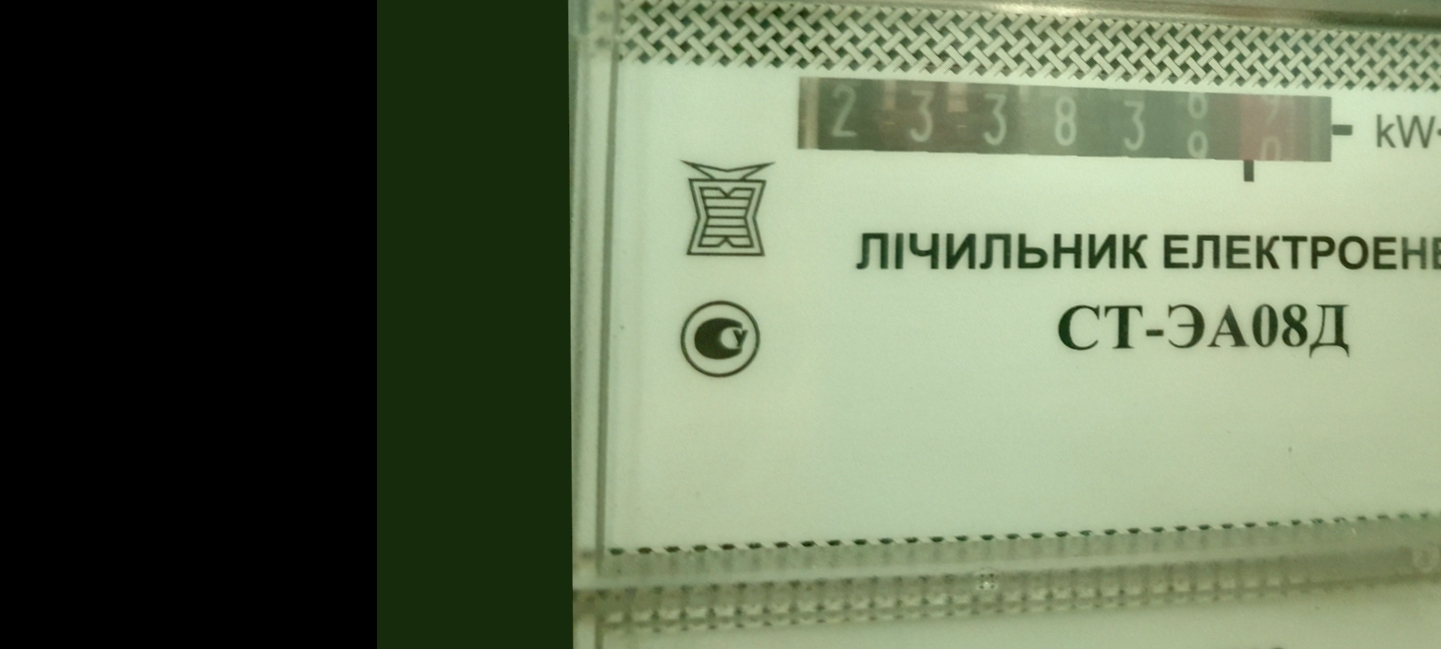0: (1258, 133, 1284, 167)
2: (825, 80, 864, 141)
3: (976, 86, 1012, 150), (907, 85, 935, 144), (1121, 94, 1149, 151)
8: (1048, 90, 1082, 149), (1186, 88, 1212, 120)
9: (1255, 89, 1286, 128), (1184, 126, 1213, 162)
screen: (768, 50, 1362, 211)
